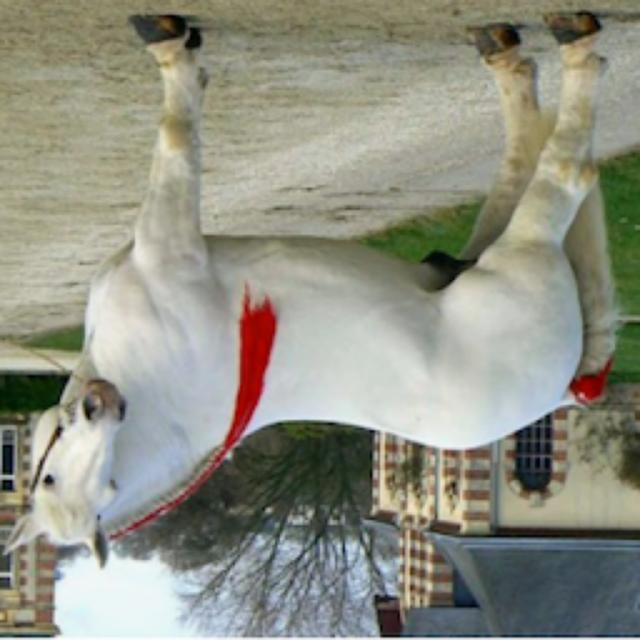Horse: (0, 7, 628, 575)
